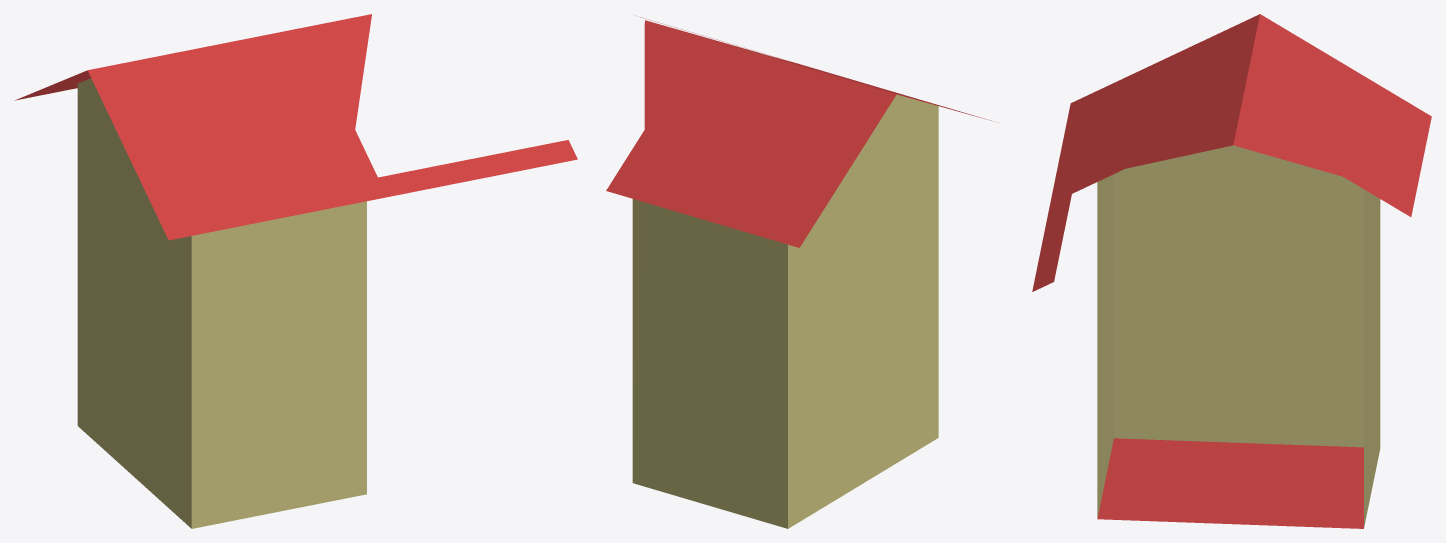
3 views of the same model, side by side, from view 1: azimuth 30°, elevation 25°; view 2: azimuth 150°, elevation 25°; view 3: azimuth 270°, elevation 25° (orthographic). The views are drawn at different scales.
Bounding box in the file's own units: 7.09 × 6.31 × 7.13.
